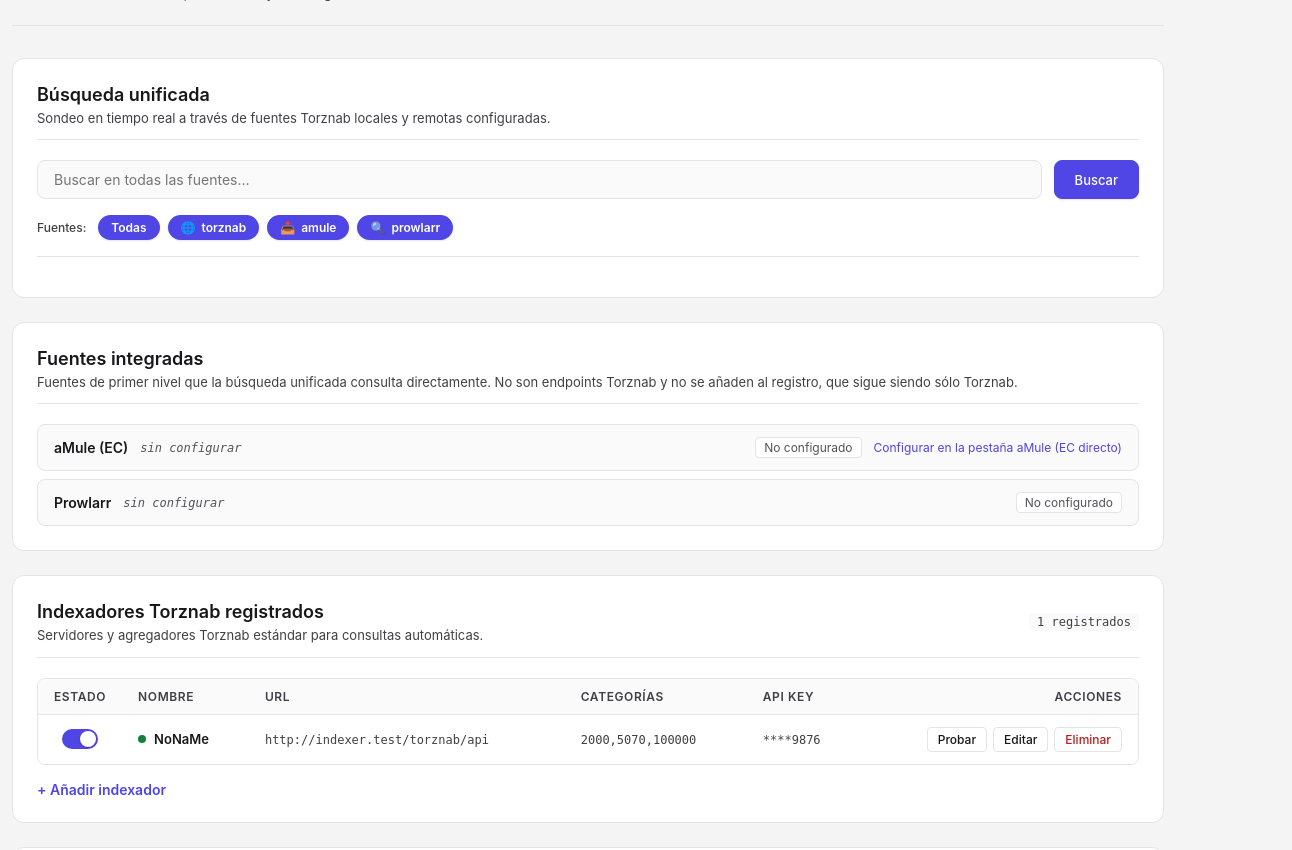
indexadores — «Categorías» checkbox grid (T4/S3) › edit load checks the csv ids and renders unknown ids as «{id} (personalizada)»
The image size is (1292, 850).
Click the button with aria-label "Editar NoNaMe" at (1021, 739), box [993, 727, 1048, 752]
(page scrolled)
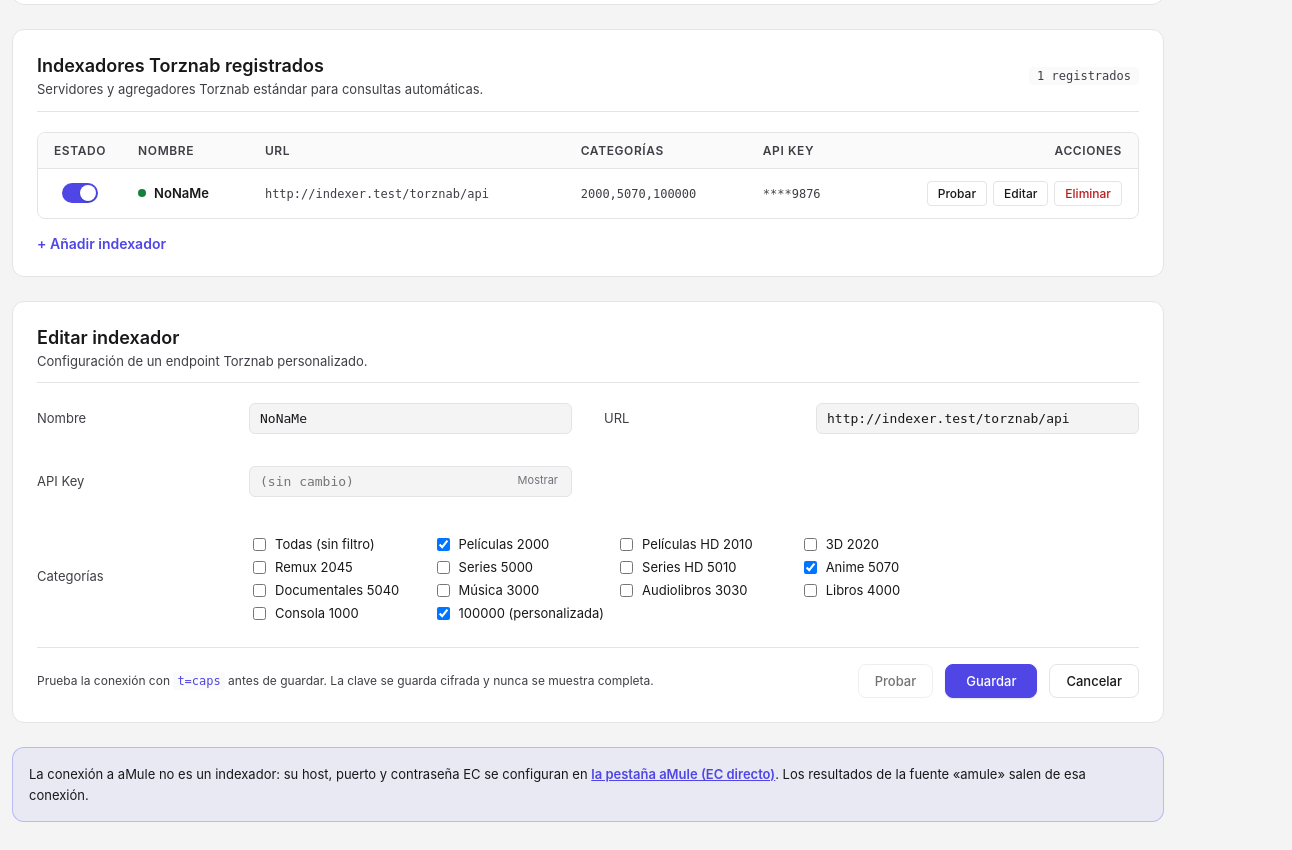
Expected: the checkbox labelled "Películas 2000" is checked, [436, 538, 450, 551]
Expected: the checkbox labelled "Anime 5070" is checked, [804, 561, 817, 574]
Expected: the checkbox labelled "Todas (sin filtro)" is not checked, [253, 538, 266, 551]
